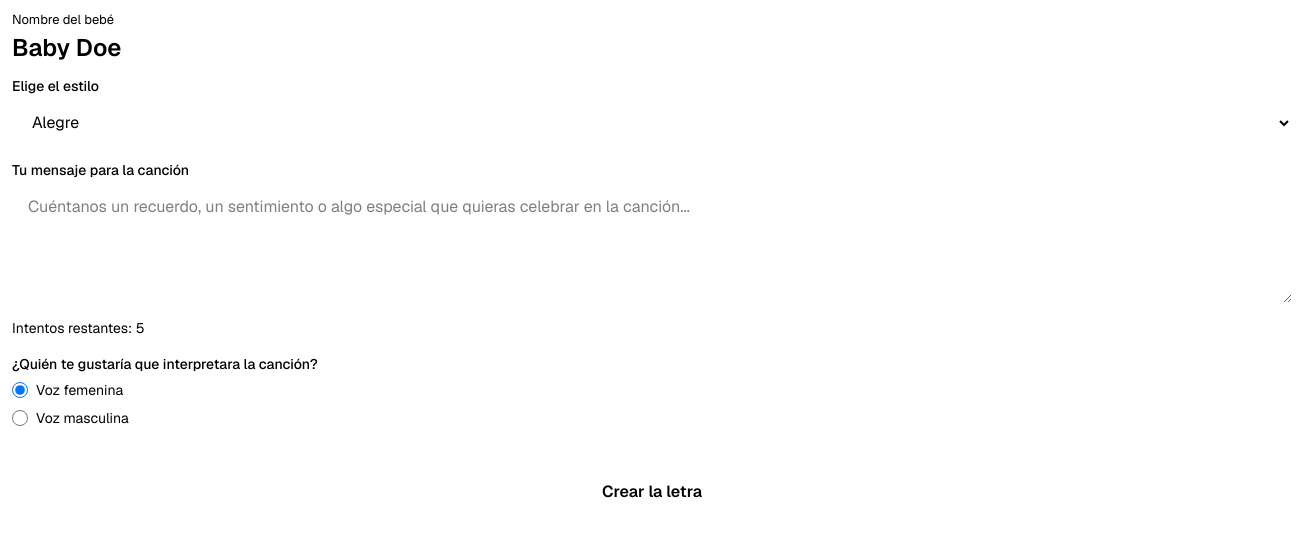
Scenario: LyricsWorkflow › shows Attempt X / MAX using the configured maximum, not a hardcoded value
This screenshot has width=1304, height=533.
Type "A gentle bedtime song." into the text box labelled "Tu mensaje para la canción". click: [652, 243]
box: [12,183,1292,303]
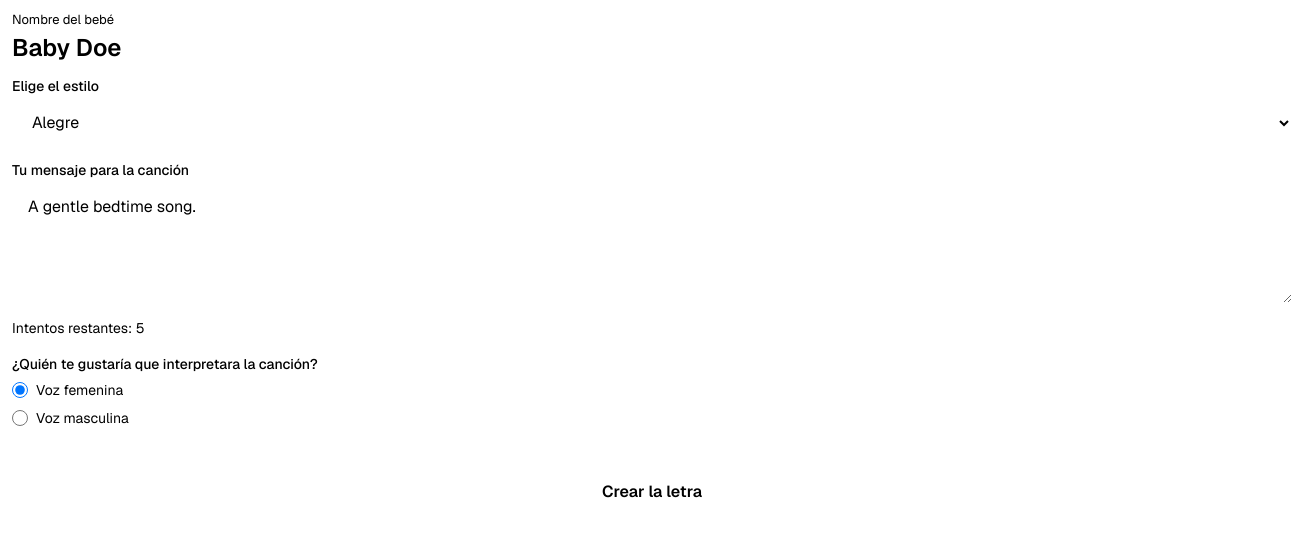
Click the button "Crear la letra". click: [652, 492]
box: [12,468,1292,516]
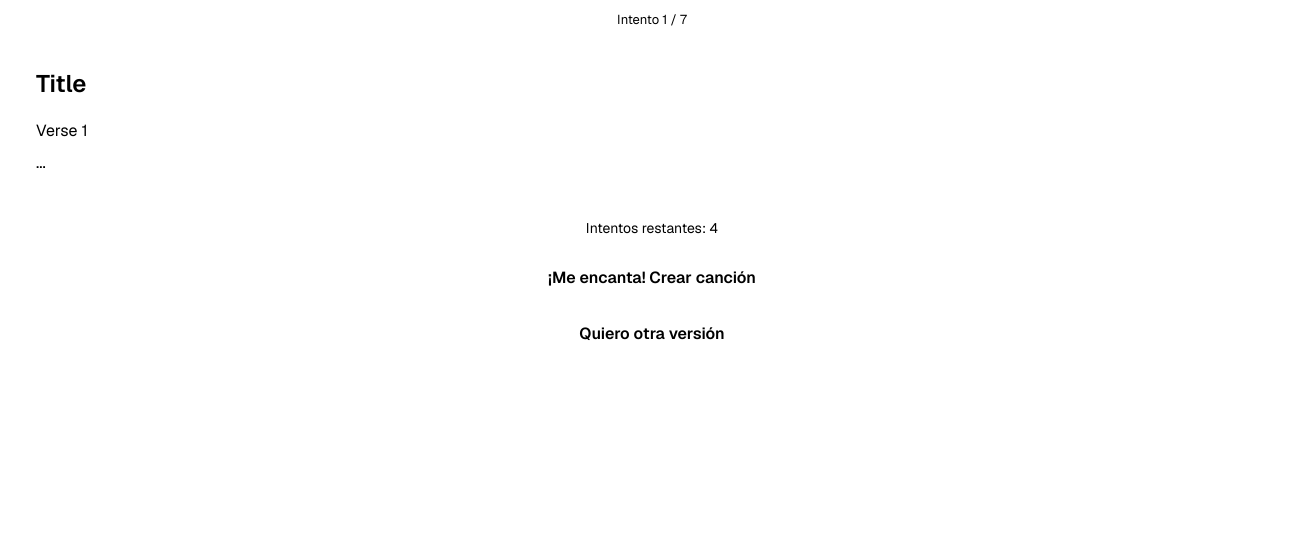
Now the text "Intento 1 / 7" is shown, box [617,11,687,28]
